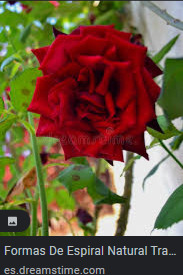RedRose: (31, 17, 164, 169)
